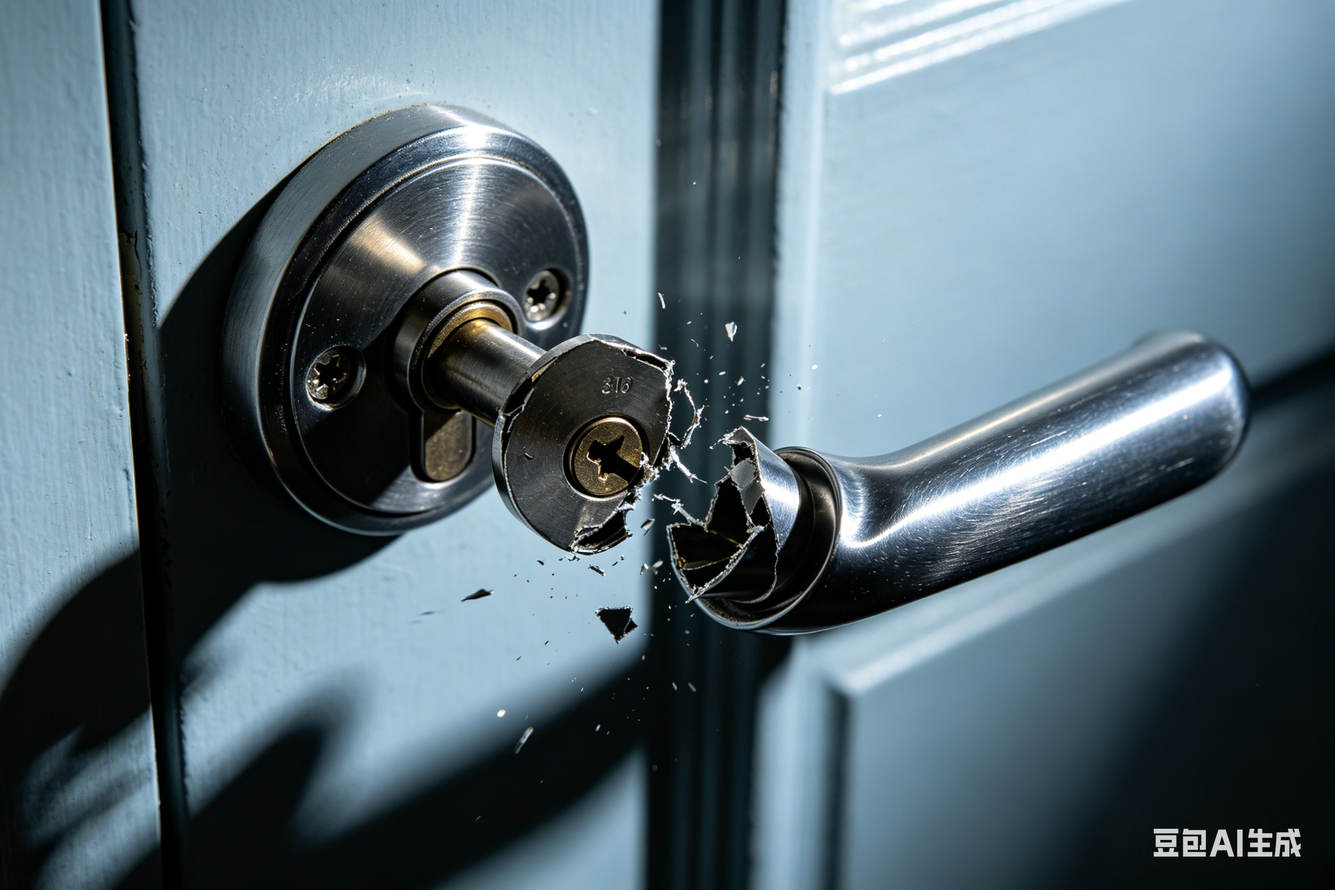BadLock: (581, 347, 822, 638)
